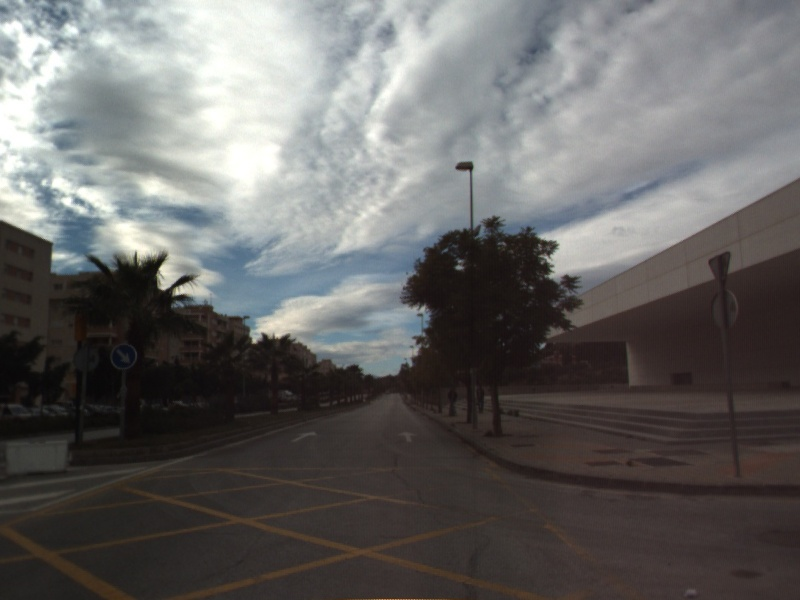STRAIGHT: (289, 429, 320, 444), (396, 429, 419, 444)
